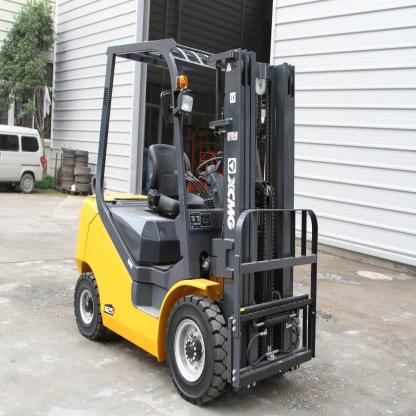forklift: (72, 36, 319, 408)
